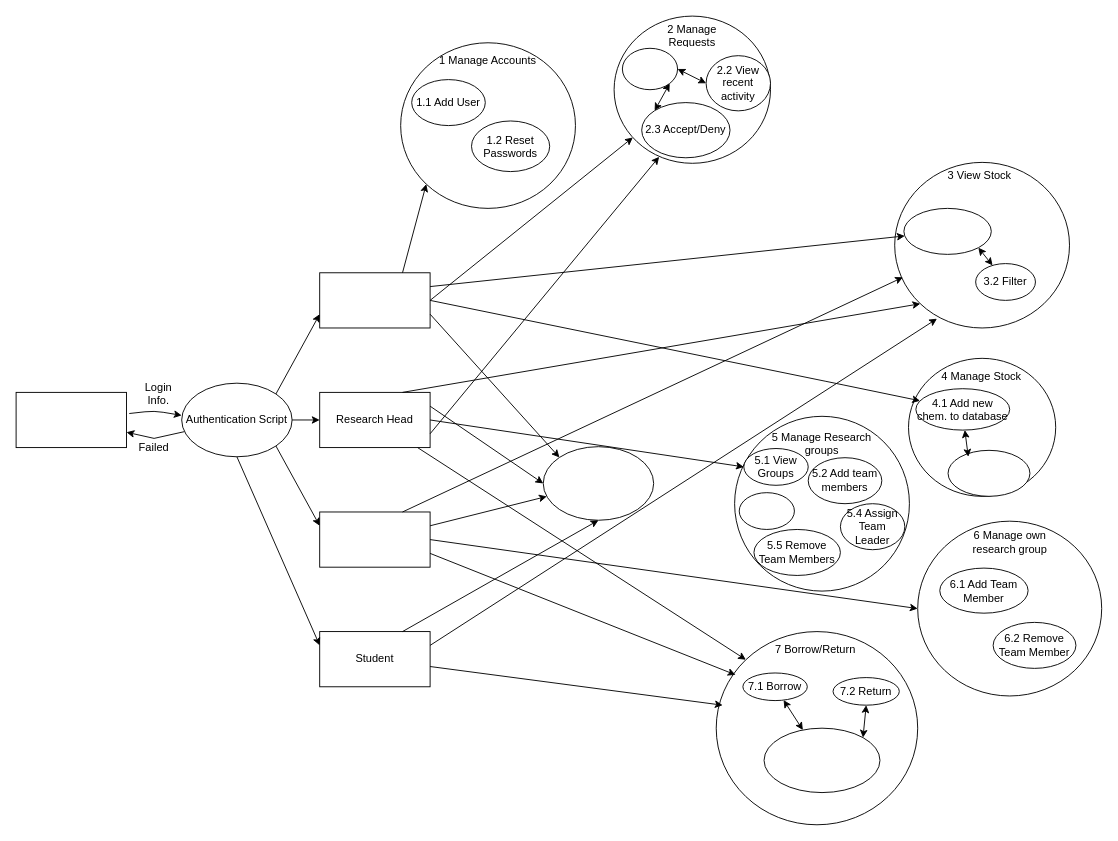
Some shapes in this 1118 by 841 pixel diagram are drawn without their labels. Each missing label, with the centre of its shape:
"2.1 View Requests" goes at point (649, 68).
"3.1 Search Bar" goes at point (947, 230).
"4.2 Update Stock for Chemicals" goes at point (988, 472).
"5.3 Create Groups" goes at point (766, 510).
"7.3 Script Checks if confirmation required" goes at point (821, 760).
"8 Reset Own Password" goes at point (598, 483).
"Admin" goes at point (374, 300).
"Team Leader" goes at point (374, 539).
"User" goes at point (70, 419).
